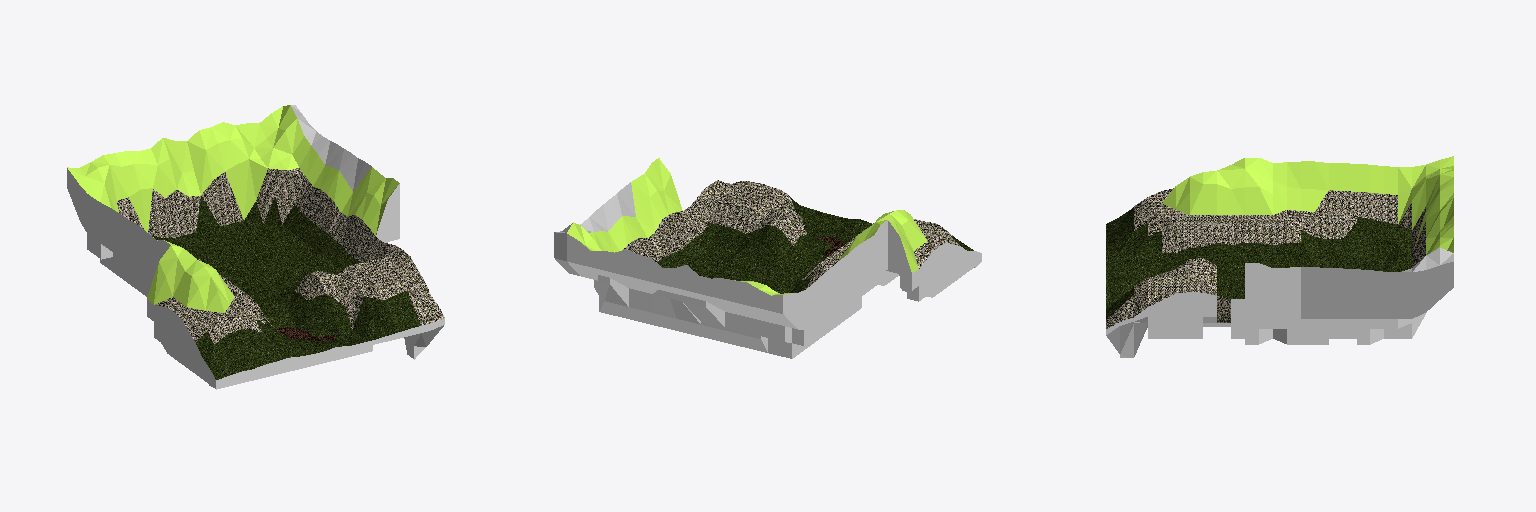
3 renders of one model, left to right at view 1: azimuth 30°, elevation 25°; view 2: azimuth 150°, elevation 25°; view 3: azimuth 270°, elevation 25°, orthographic.
Visible parts, largest first — view 1: entity0_brush781, entity0_brush780, entity0_brush29; view 2: entity0_brush780, entity0_brush746, entity0_brush658, entity0_brush714; view 3: entity0_brush28, entity0_brush27, entity0_brush20, entity0_brush23, entity0_brush4, entity0_brush19, entity0_brush16, entity0_brush24, entity0_brush15, entity0_brush11, entity0_brush7, entity0_brush8 (+7 smaller).
Part boxes in pixels (left/top/right/bottom): entity0_brush781: left=186, top=229, right=329, bottom=273; entity0_brush780: left=187, top=250, right=307, bottom=299; entity0_brush29: left=381, top=184, right=399, bottom=241; entity0_brush780: left=719, top=254, right=802, bottom=292; entity0_brush746: left=900, top=237, right=918, bottom=290; entity0_brush658: left=792, top=286, right=810, bottom=345; entity0_brush714: left=888, top=220, right=899, bottom=271; entity0_brush28: left=1245, top=263, right=1258, bottom=318; entity0_brush27: left=1259, top=263, right=1272, bottom=318; entity0_brush20: left=1301, top=267, right=1314, bottom=318; entity0_brush23: left=1287, top=267, right=1300, bottom=318; entity0_brush4: left=1412, top=256, right=1425, bottom=318; entity0_brush19: left=1315, top=267, right=1328, bottom=318; entity0_brush16: left=1329, top=268, right=1342, bottom=318; entity0_brush24: left=1273, top=268, right=1286, bottom=318; entity0_brush15: left=1343, top=269, right=1356, bottom=318; entity0_brush11: left=1370, top=270, right=1383, bottom=318; entity0_brush7: left=1398, top=272, right=1411, bottom=318; entity0_brush8: left=1384, top=272, right=1397, bottom=318.
Bounding box in the file's own units: 5376 × 2608 × 6400.
7 materials, 3 textured.